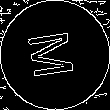M_E: (26, 28, 84, 82)
